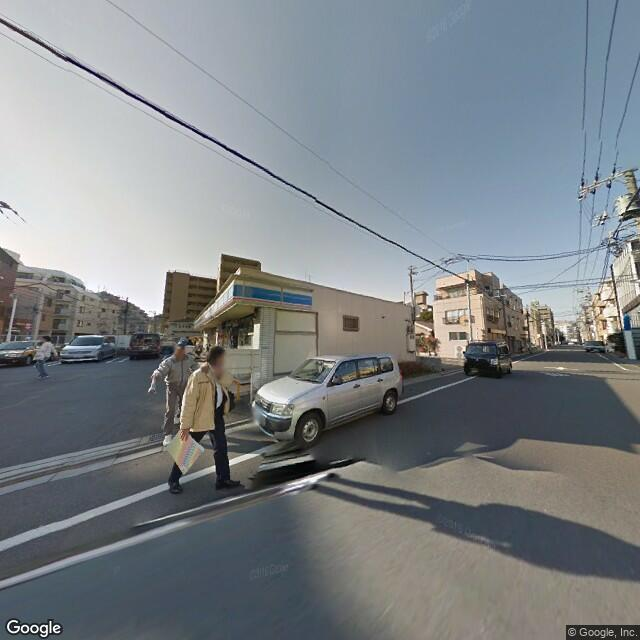lawson: (190, 276, 316, 331)
